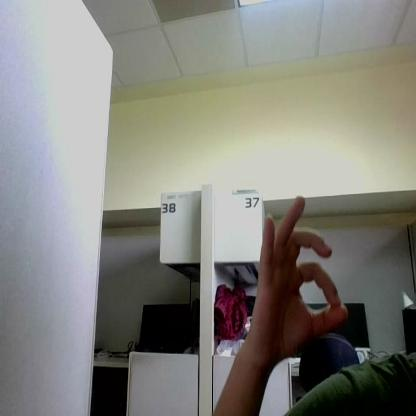F: (252, 196, 347, 357)
